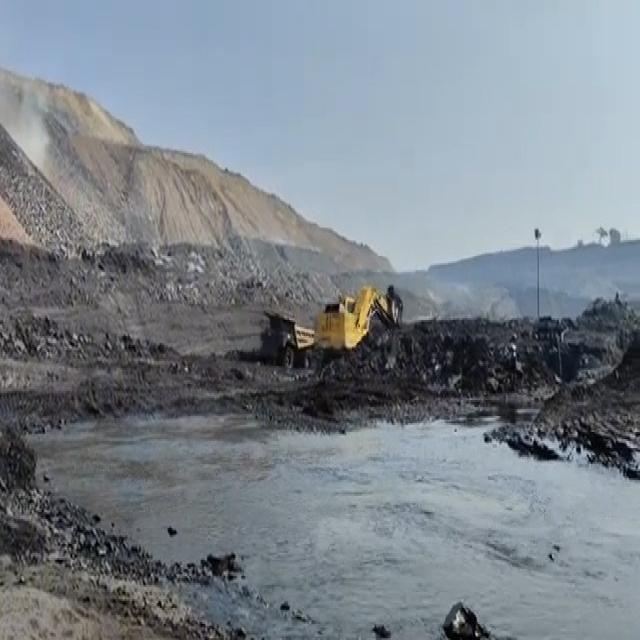dump_truck: (262, 313, 312, 366)
excavator: (316, 278, 400, 356)
